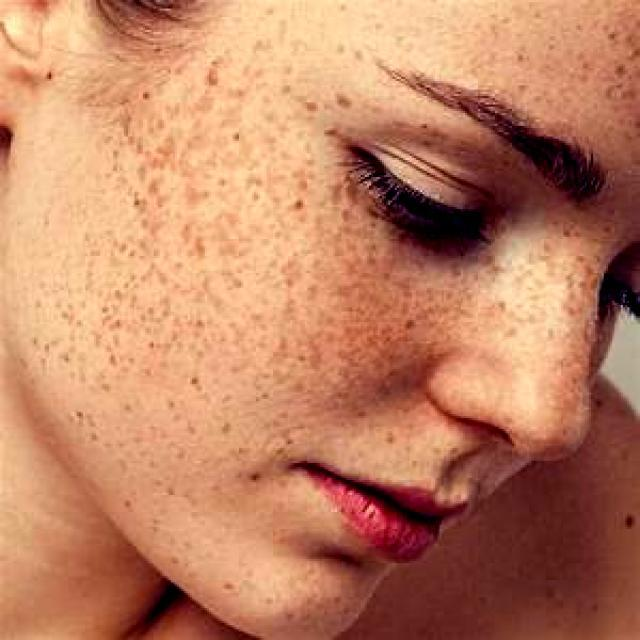pigmentation: (117, 82, 300, 419)
